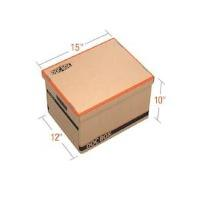undamaged: (40, 36, 157, 156)
